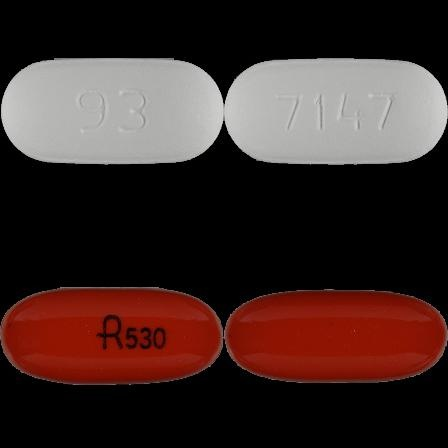68084-920: (0, 0, 224, 224)
